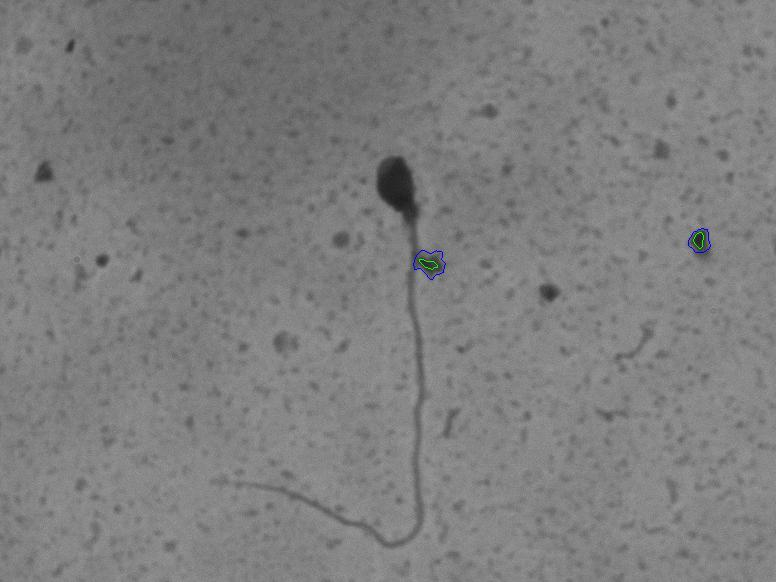Abnormal: (215, 110, 488, 559)
